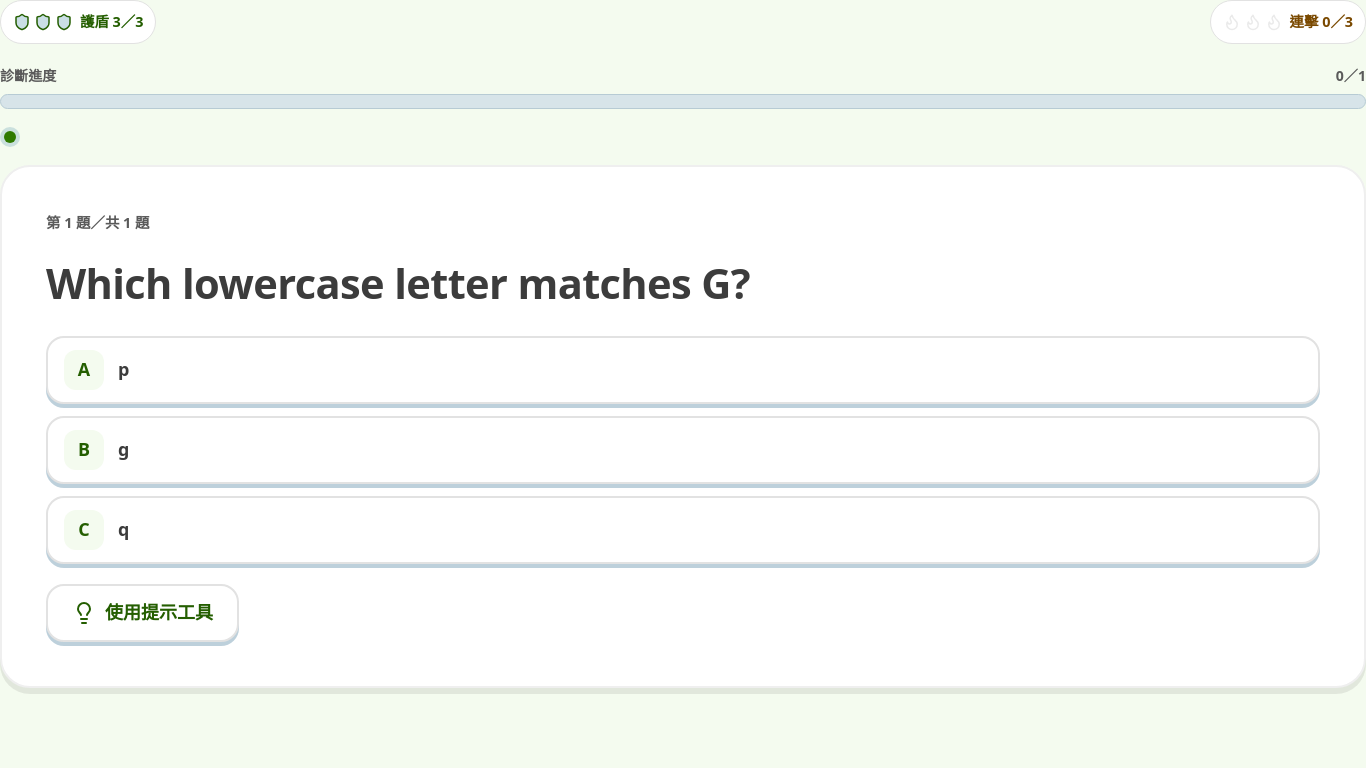
BattleSession › keeps shield feedback warm after a wrong first try and leads feedback with growth
Expected: the heading "Which lowercase letter matches G?" is shown, left=46, top=255, right=750, bottom=311
Expected: the text "護盾 3／3" is shown, left=80, top=10, right=143, bottom=34
What coordinates should you click on to do the following:
click the button "C q"
I would click on:
 (84, 530)
Its box is left=46, top=496, right=1320, bottom=564.
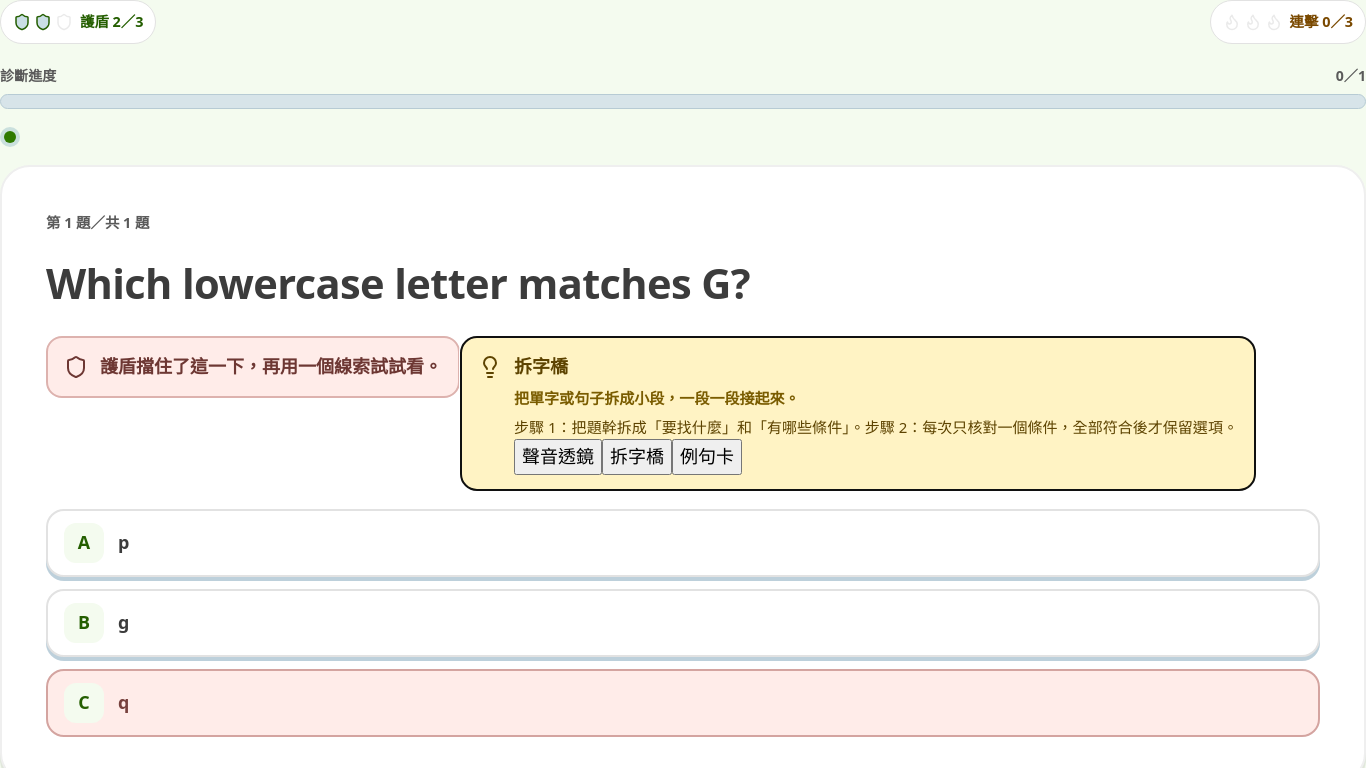
Now the text "護盾 2／3" is shown, box left=80, top=10, right=143, bottom=34
Now the text "護盾擋住了這一下，再用一個線索試試看。" is shown, box left=100, top=354, right=442, bottom=378
What coordinates should you click on to do the following:
click the button "B g"
I would click on:
 (84, 623)
Its box is left=46, top=589, right=1320, bottom=657.
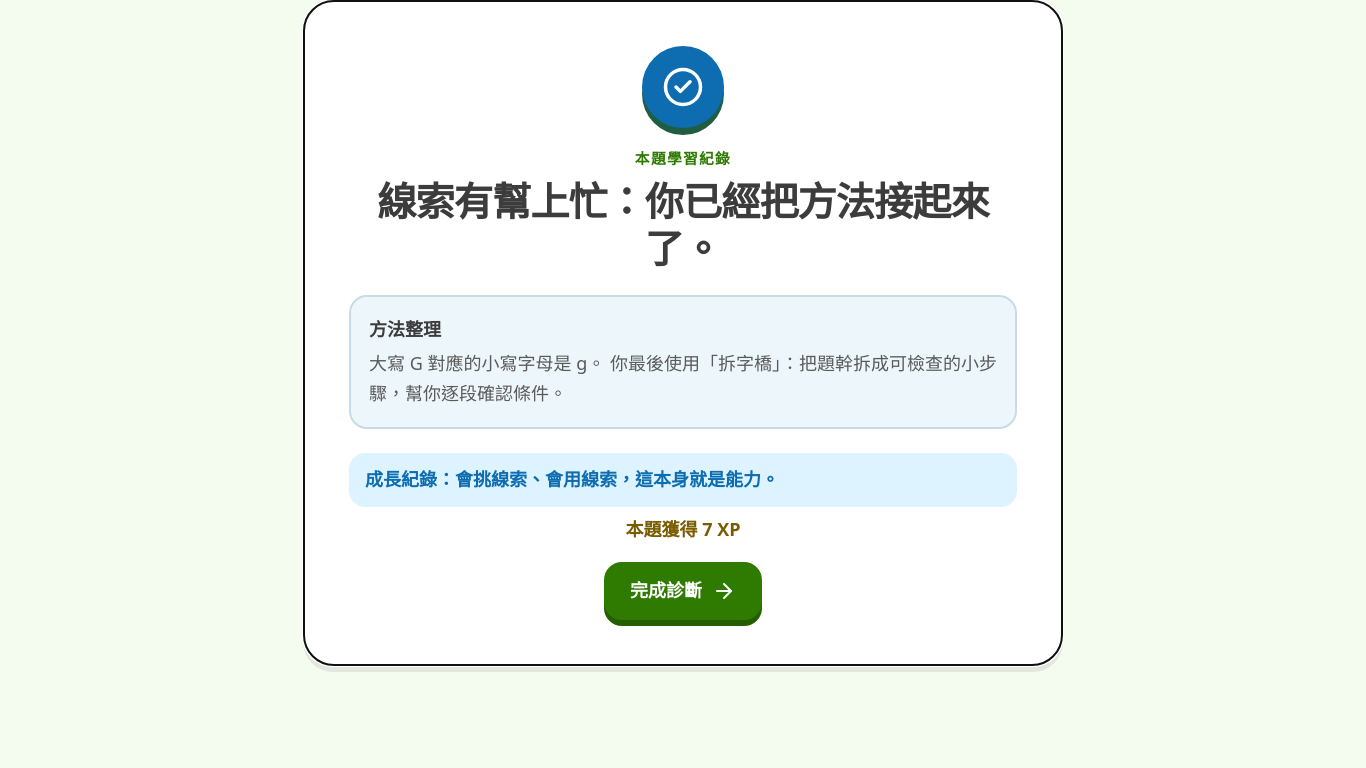
Now the text "成長紀錄：會挑線索、會用線索，這本身就是能力。" is shown, box left=349, top=453, right=1017, bottom=506
